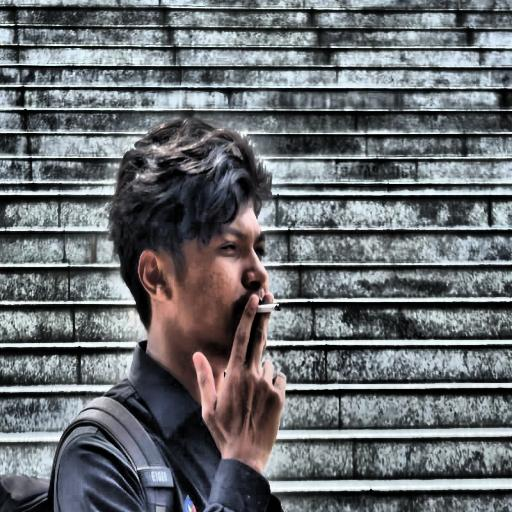Asbak: (257, 303, 280, 313)
Merokok: (138, 205, 286, 470)
